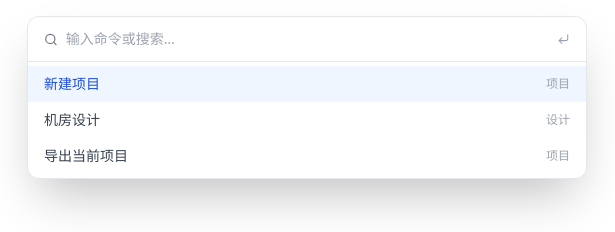
Test case: CommandPalette 组件（A-1） › 按 label 搜索过滤
The width and height of the screenshot is (615, 232).
Type "设计" into the field with placeholder "输入命令或搜索…" at (307, 39), box left=66, top=29, right=549, bottom=49
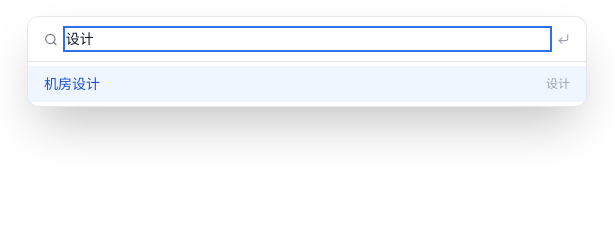
Expected: the text "机房设计" is shown, left=44, top=74, right=100, bottom=93
Result: the button "新建项目" is gone
Result: the button "导出当前项目" is gone
